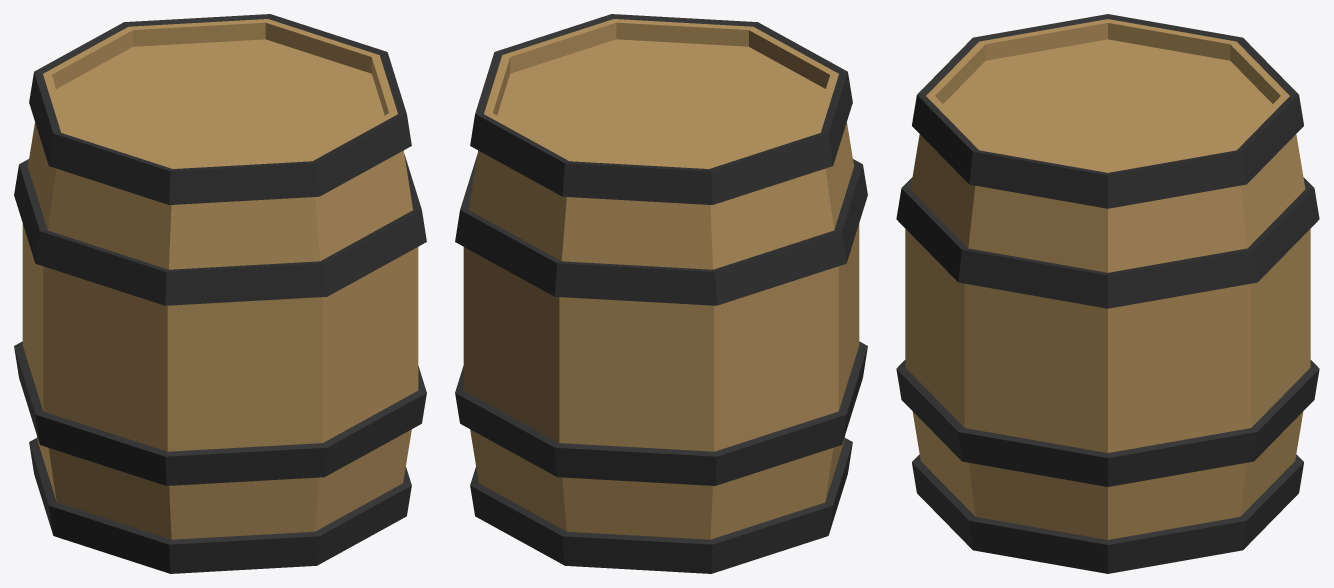
File: Barrel2.fbx
The picture shows the model from 3 angles, left to right: view 1: azimuth 30°, elevation 25°; view 2: azimuth 150°, elevation 25°; view 3: azimuth 270°, elevation 25°; orthographic projection.
Parts seen in each view (by area): view 1: Cylinder; view 2: Cylinder; view 3: Cylinder.
Boxes of the visible parts, box(x1,y1,x2,y2) form: Cylinder: box(14, 14, 426, 573); Cylinder: box(455, 14, 867, 573); Cylinder: box(896, 14, 1319, 573).
Bounding box in the file's own units: 0.9299 × 0.9659 × 0.9299.
